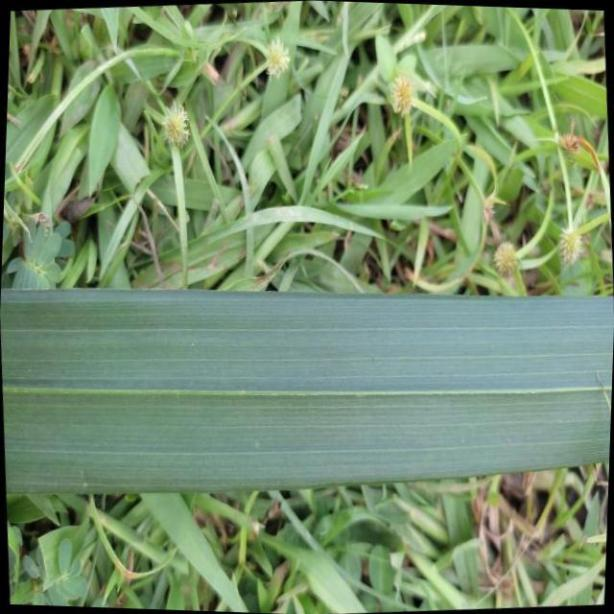Healthy: (1, 283, 614, 499)
